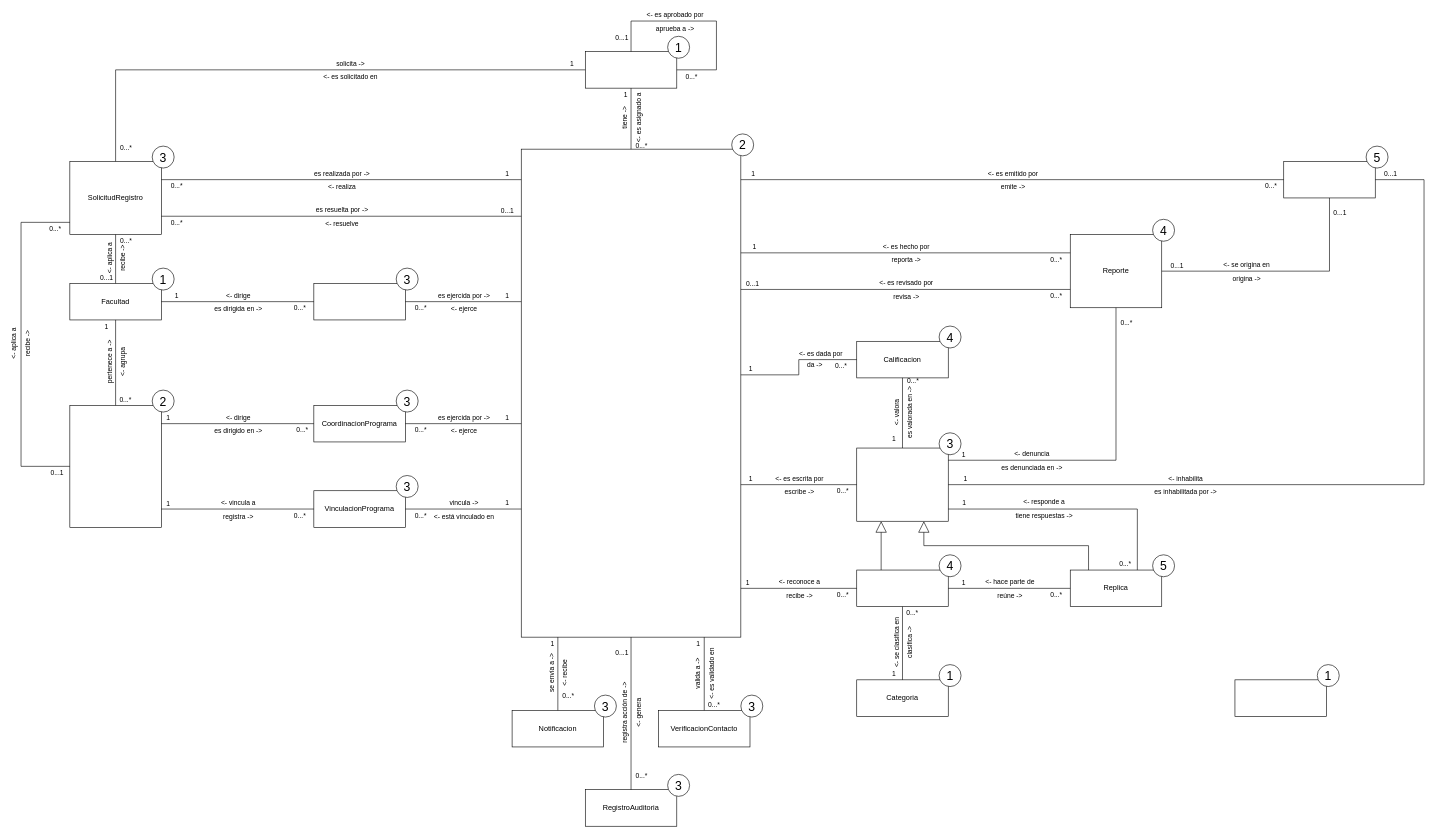
Some shapes in this 1435 by 837 pixel diagram are drawn without their labels. The shapes that lost their labels are listed below. From the top down, each one's centre as x and y in pixels, then its label:
the point at 631,69: Rol
the point at 1329,179: Veto
the point at 359,301: CoordinacionFacultad
the point at 631,393: Usuario
the point at 115,466: ProgramaAcademico
the point at 902,484: Publicacion «abstracta»
the point at 902,588: Kudo
the point at 1280,697: ParametroSistema
